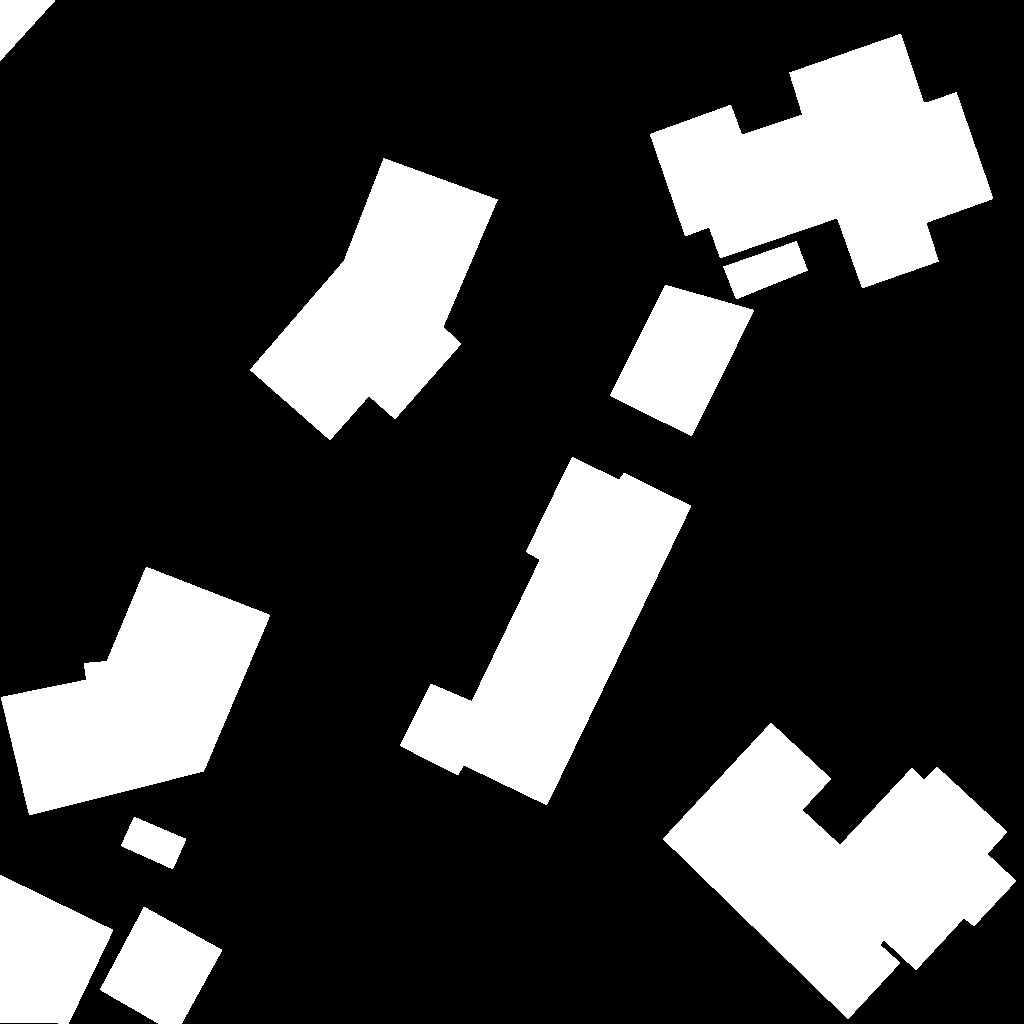building: (663, 723, 1017, 1020), (400, 457, 692, 806), (650, 34, 994, 289), (250, 158, 499, 441), (1, 567, 271, 816), (610, 285, 755, 437), (0, 875, 114, 1024), (100, 907, 223, 1024), (723, 241, 809, 300), (0, 0, 57, 62), (121, 817, 187, 870)
